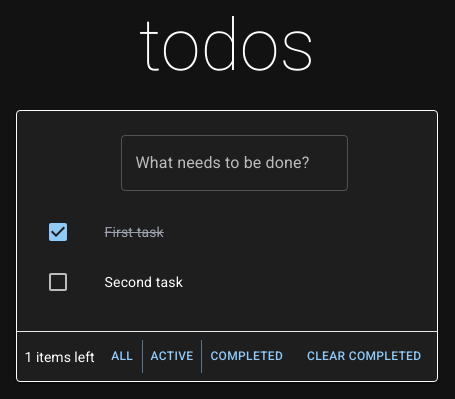
Test case: Tasks tests › Check filter of completed tasks
Step 1. Click the button with test id "completed-btn" → (247, 356), box [202,340,291,373]
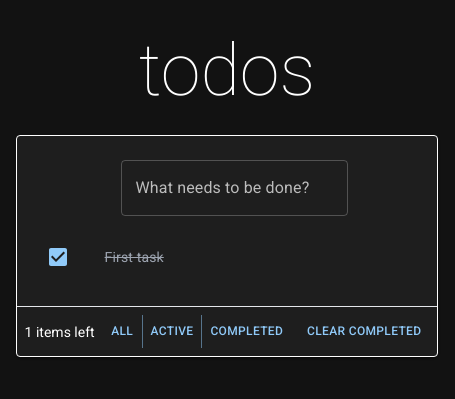
Expected: the text "First task" is shown, [105,249,164,265]
Result: the button "Second task" is gone
